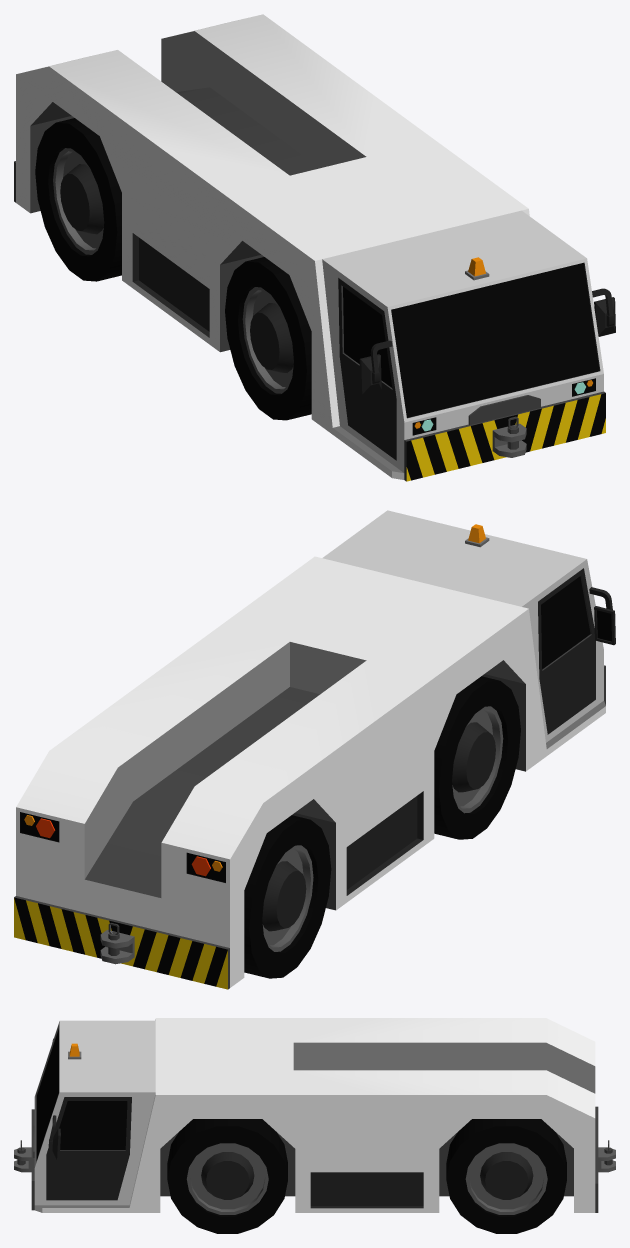
File: Aircraft Tug.fbx
3 views of the same model, one above another, from view 1: azimuth 30°, elevation 25°; view 2: azimuth 150°, elevation 25°; view 3: azimuth 270°, elevation 25° (orthographic). The views are drawn at different scales.
Parts seen in each view (by area): view 1: Aircraft_Tug; view 2: Aircraft_Tug; view 3: Aircraft_Tug.
Part boxes in pixels (x1,y1,x2,y2): Aircraft_Tug: [14, 14, 615, 481]; Aircraft_Tug: [14, 510, 615, 989]; Aircraft_Tug: [14, 1018, 615, 1233].
Size of the model in its own units: 250 by 193 by 698.
Materials: 1 (1 with a texture image).
